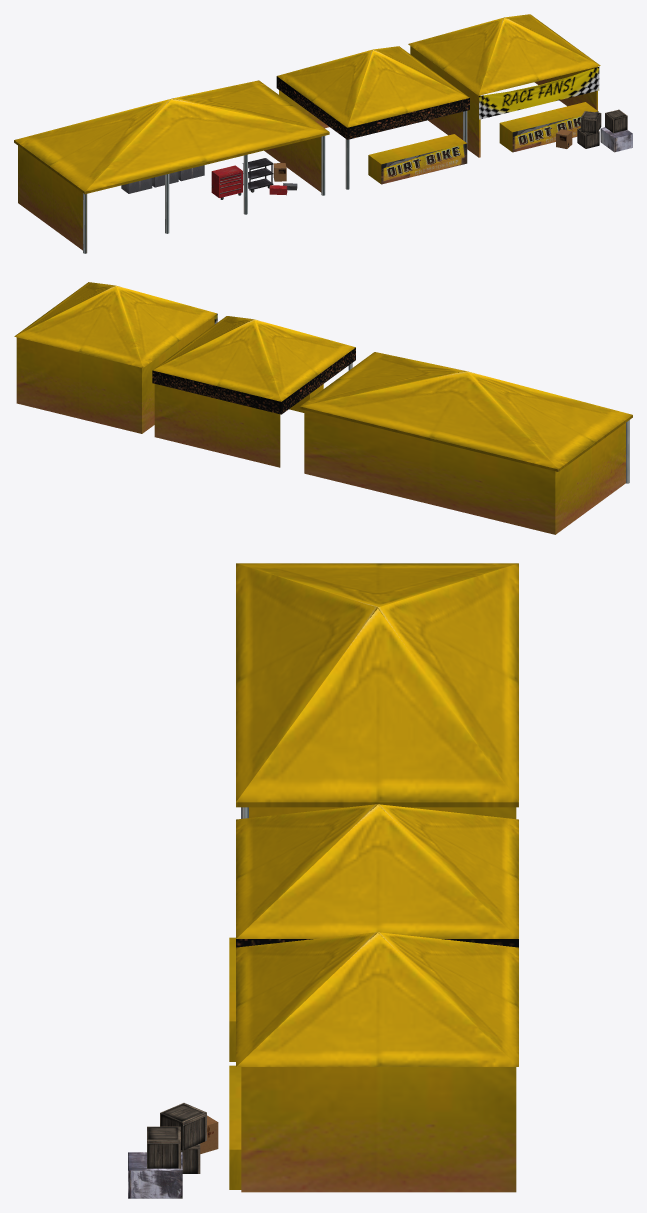
The model's file is camps_yellow_tent_workshops.FBX.
The picture shows the model from 3 angles, top to bottom: view 1: azimuth 30°, elevation 25°; view 2: azimuth 150°, elevation 25°; view 3: azimuth 270°, elevation 25°; orthographic projection. The views are drawn at different scales.
Visible parts, largest first — view 1: prop_tent_market_C, prop_tent_market_B, prop_tent_market_A, prop_tent_interior_B, prop_tent_interior_A, prop_tent_interior_C; view 2: prop_tent_market_C, prop_tent_market_B, prop_tent_market_A; view 3: prop_tent_market_B, prop_tent_market_C, prop_tent_market_A, prop_tent_interior_B.
Part boxes in pixels (x1,y1,x2,y2): prop_tent_market_C: (14,80,329,253); prop_tent_market_B: (408,14,600,157); prop_tent_market_A: (276,46,469,189); prop_tent_interior_B: (556,109,632,152); prop_tent_interior_A: (211,158,297,199); prop_tent_interior_C: (121,165,204,193); prop_tent_market_C: (300,352,632,534); prop_tent_market_B: (14,282,217,433); prop_tent_market_A: (152,316,355,467); prop_tent_market_B: (229,932,518,1192); prop_tent_market_C: (236,563,518,818); prop_tent_market_A: (229,804,518,1061); prop_tent_interior_B: (128,1103,218,1198).
Size of the model in its own units: 2127 by 394 by 691.
2 materials, 2 textured.
